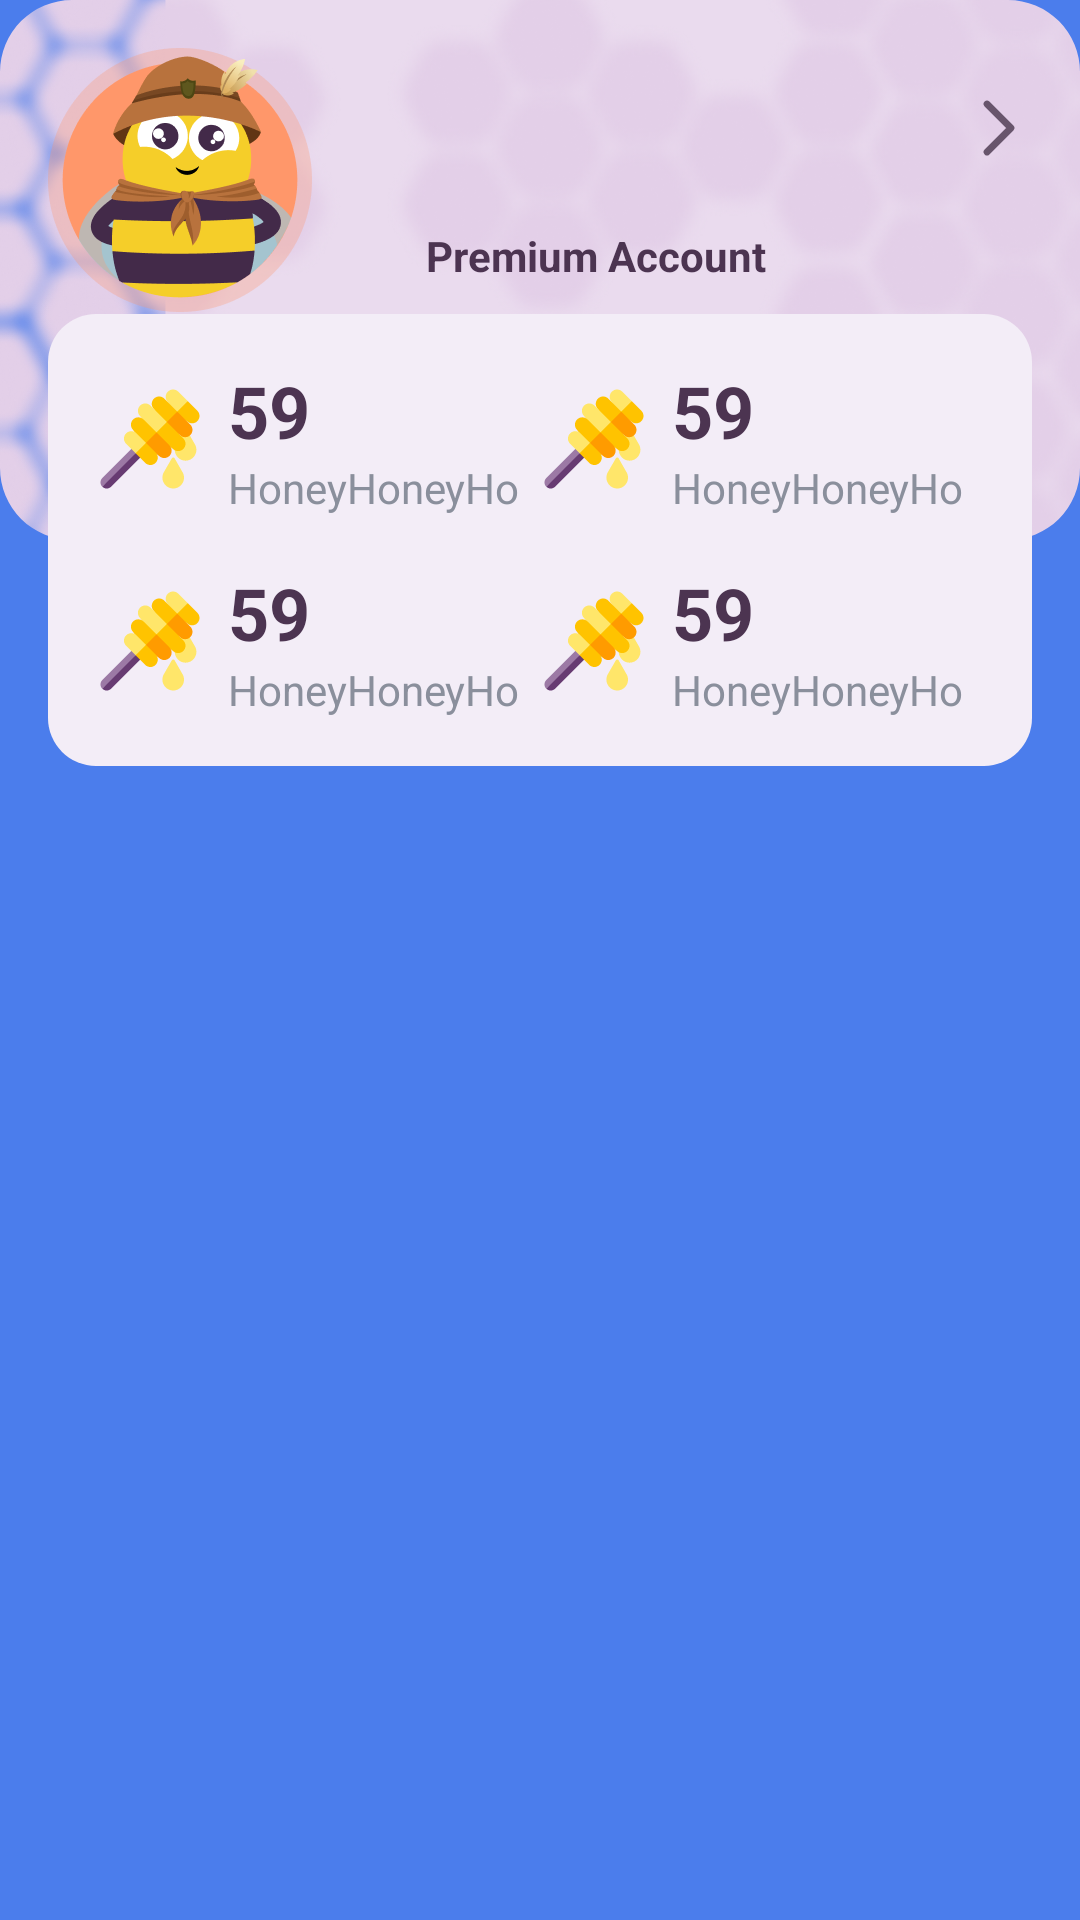

Icons on this 1080×1920 Android screen, each with its box as (left=x1, top=y1, right=x2, bottom=y2):
Avatar: (left=48, top=48, right=312, bottom=312)
